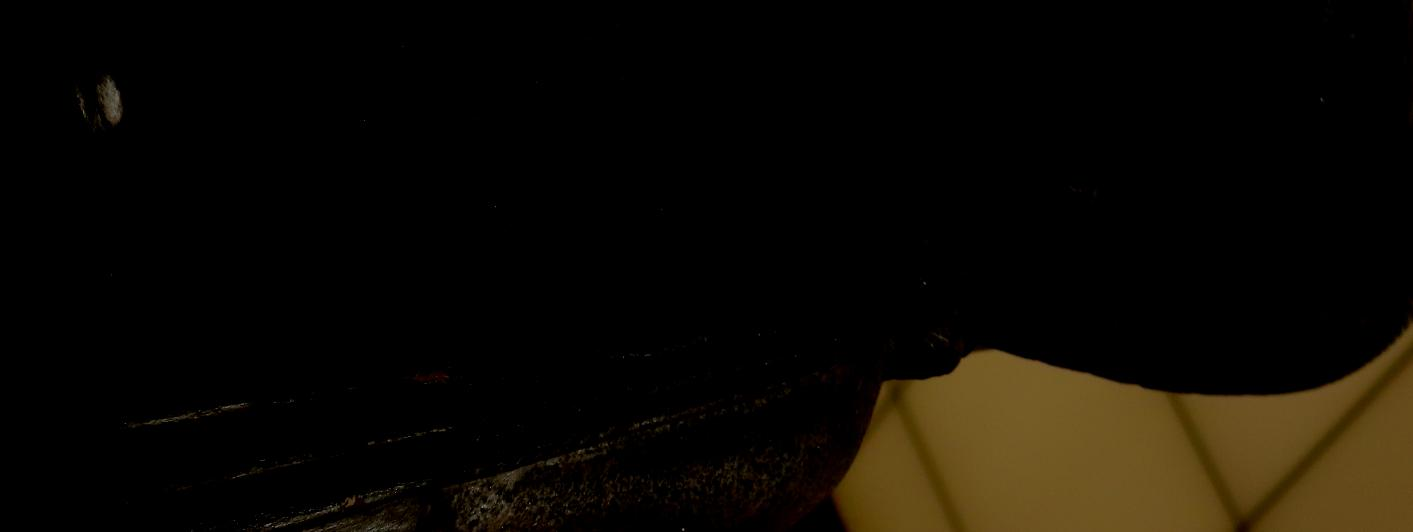Khonsu: (0, 0, 747, 532)
